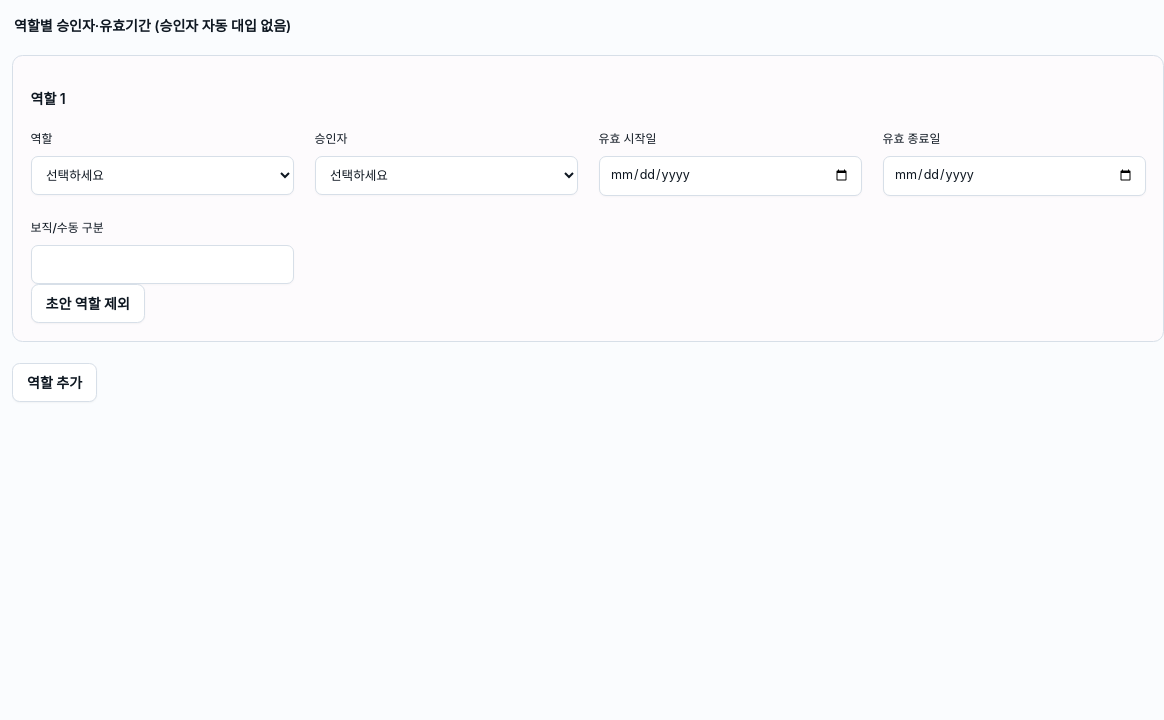
Test: 인증·권한·상태 › 부여 승인자는 비어 있고 추가 역할마다 개별 기록을 입력한다
The image size is (1164, 720).
Expected: the dropdown labelled "승인자" shows "선택하세요", [314,156,578,195]
Click the button "역할 추가" at coordinates (55, 382), box [12,363,97,402]
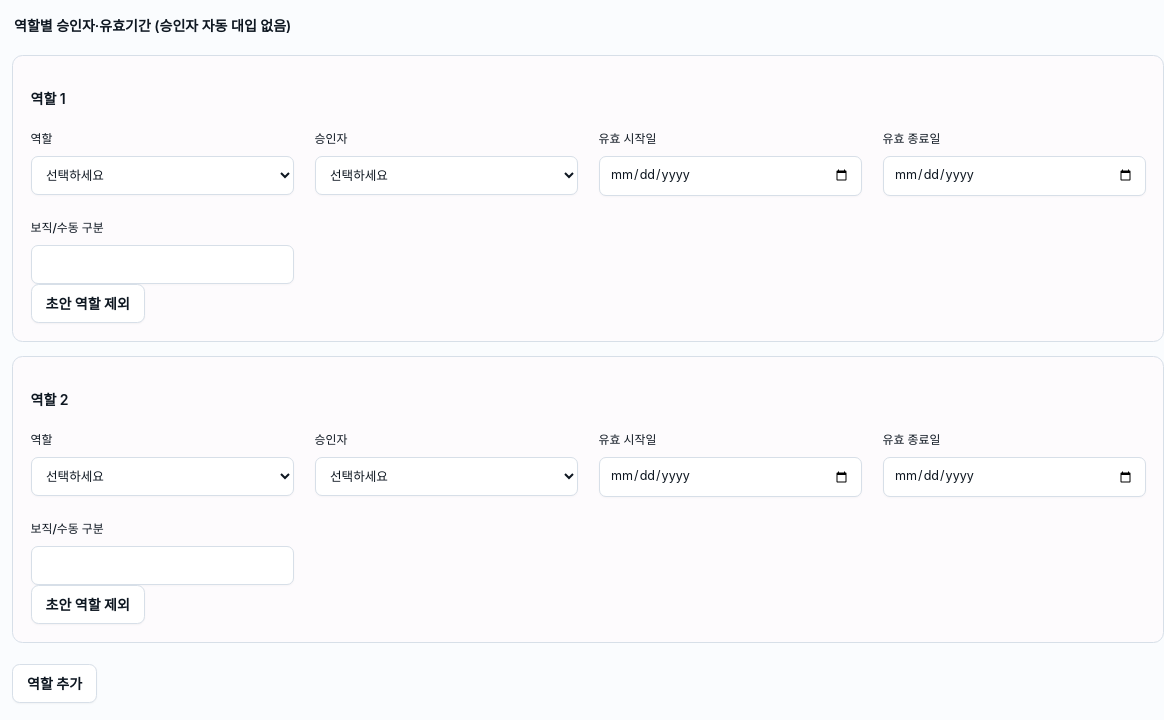
Expected: the number of dropdowns labelled "승인자" is 2, [314,156,578,195]; [314,457,578,496]
